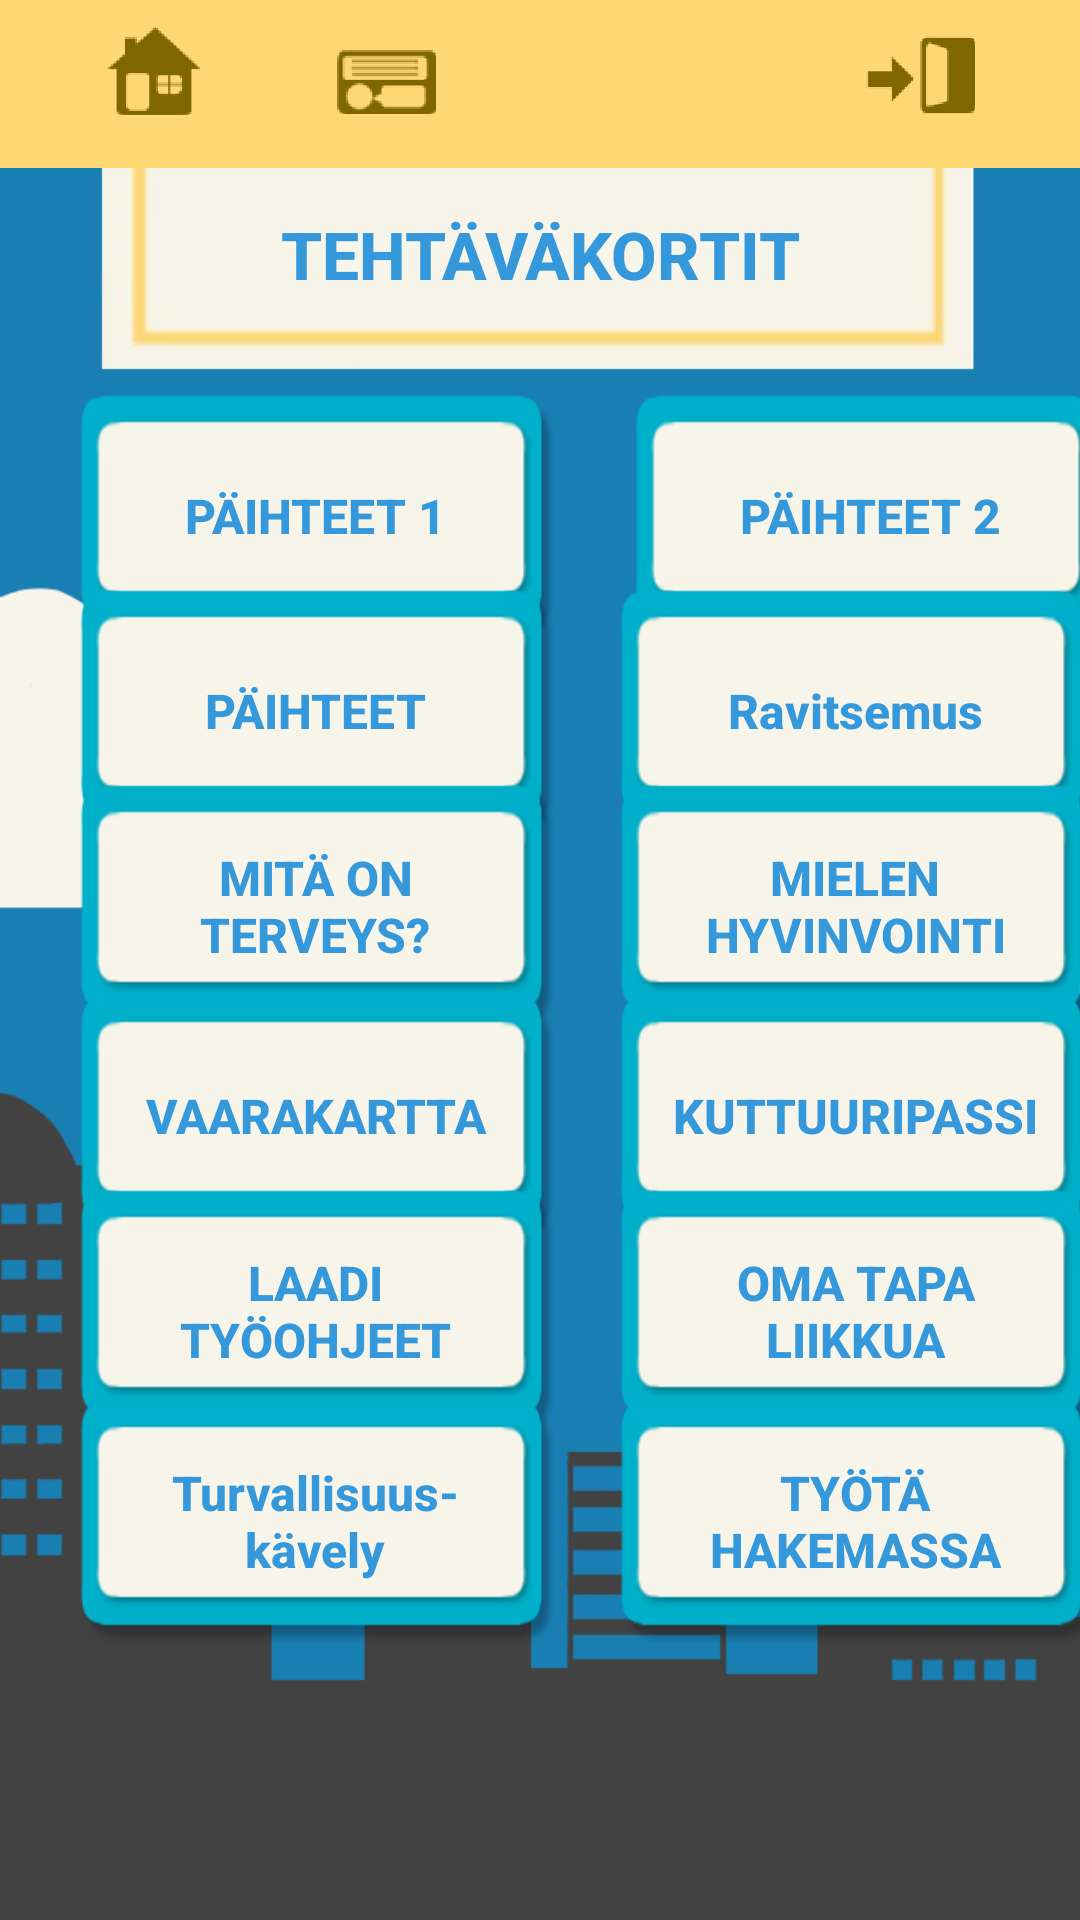

Point at icon controls on the screen. Image size 1080*1920, points as point (x, y).
homeicon: point (154, 71)
